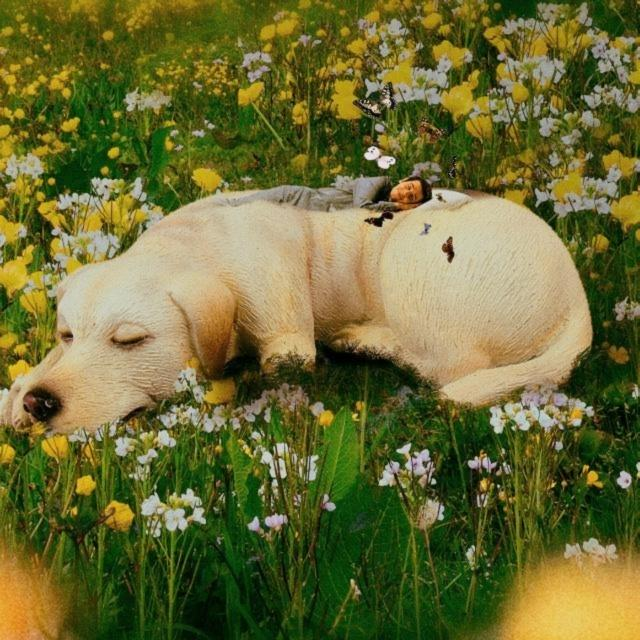dog: (6, 220, 250, 444)
